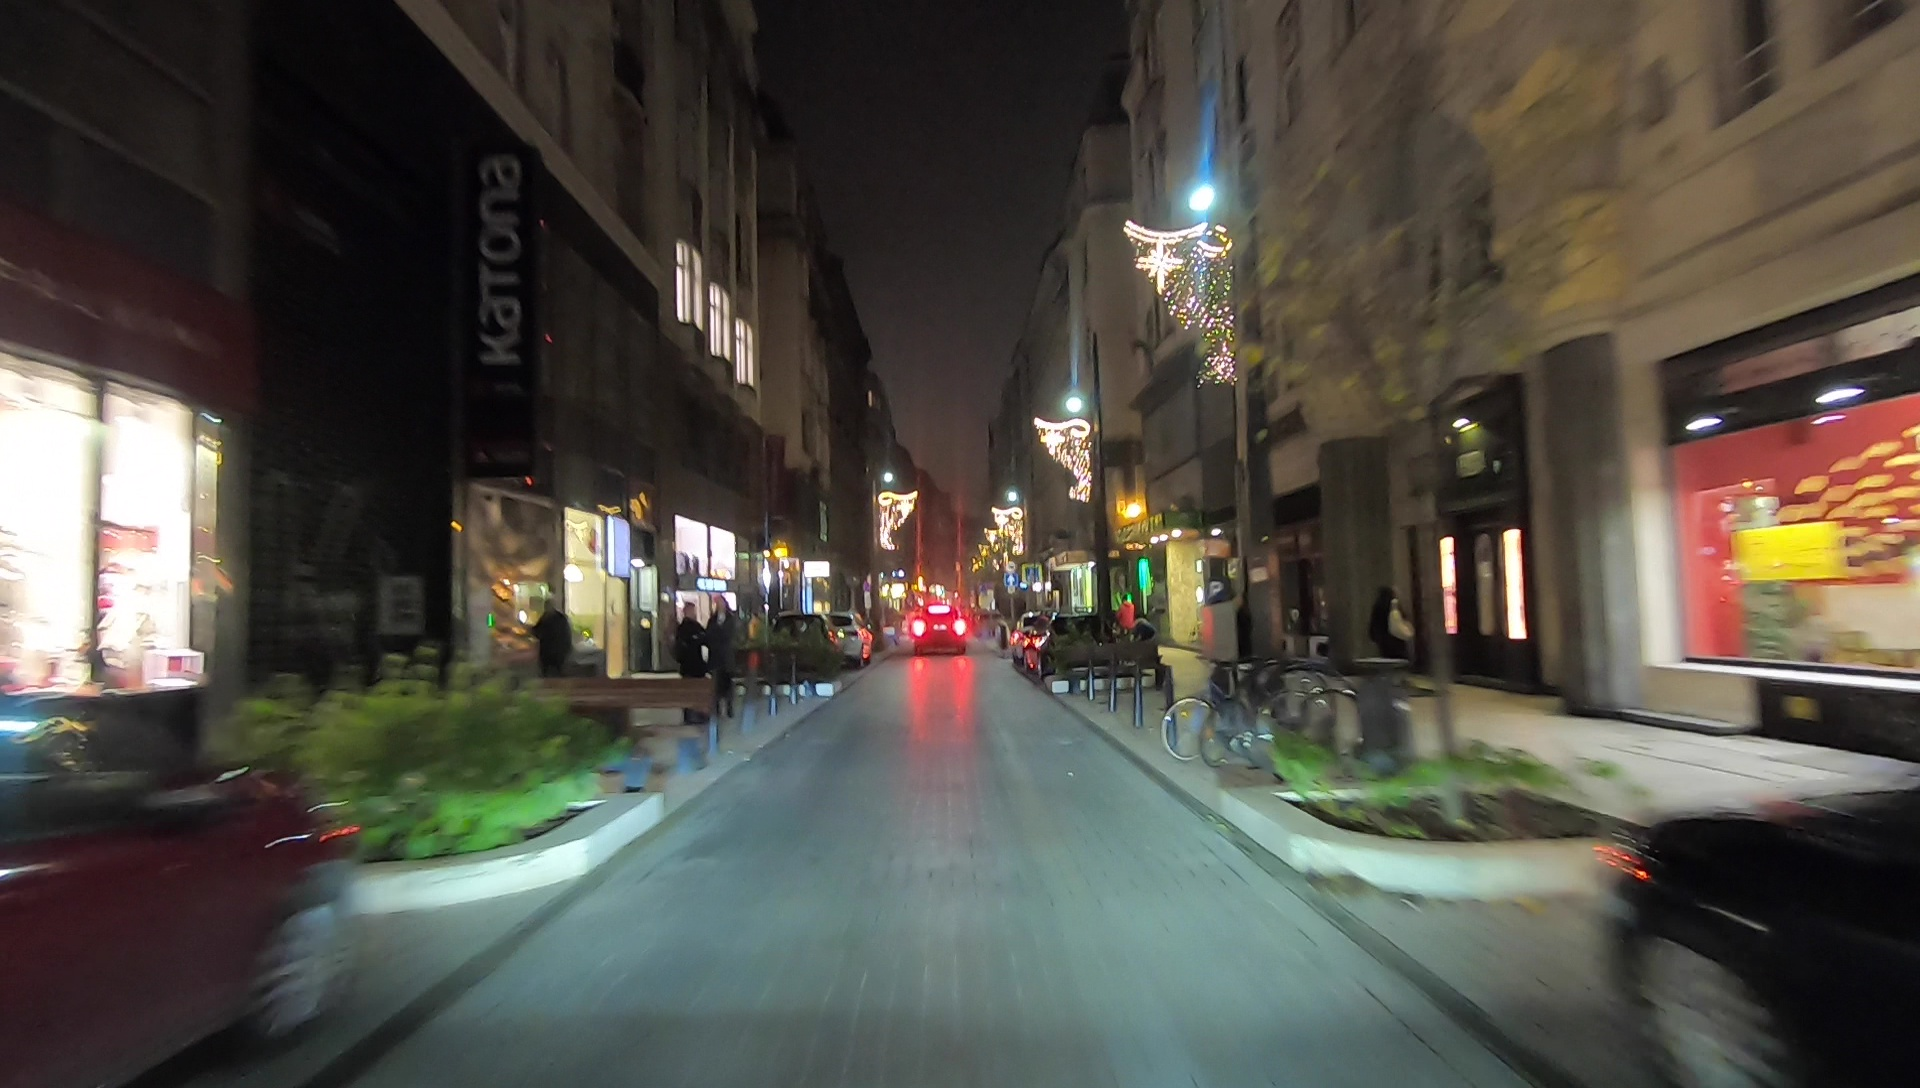person: (528, 599, 576, 716), (1372, 585, 1412, 699), (674, 600, 710, 722), (707, 592, 736, 714)
